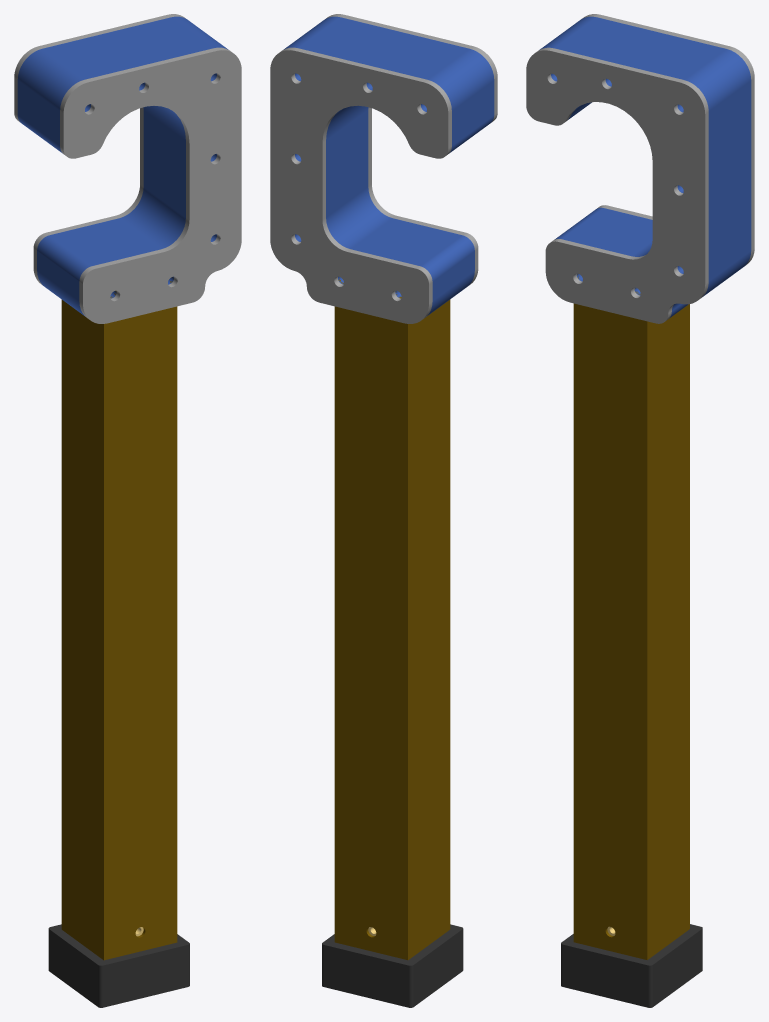
3 renders of one model, left to right at view 1: azimuth 30°, elevation 25°; view 2: azimuth 150°, elevation 25°; view 3: azimuth 330°, elevation 25°, orthographic.
Parts seen in each view (by area): view 1: Inner, Hook (×2), HookBody, 2X2 Stage Internal End Block; view 2: Inner, Hook (×2), HookBody, 2X2 Stage Internal End Block; view 3: Inner, Hook (×2), HookBody, 2X2 Stage Internal End Block.
Boxes of the visible parts, x1,y1,x2,y2 form: Inner: [61, 277, 177, 960]; Hook (×2): [14, 14, 241, 323]; HookBody: [17, 16, 228, 315]; 2X2 Stage Internal End Block: [48, 924, 189, 1007]; Inner: [334, 278, 450, 960]; Hook (×2): [270, 14, 497, 323]; HookBody: [283, 16, 494, 317]; 2X2 Stage Internal End Block: [322, 924, 463, 1007]; Inner: [573, 274, 689, 959]; Hook (×2): [526, 14, 754, 323]; HookBody: [539, 16, 751, 318]; 2X2 Stage Internal End Block: [561, 924, 702, 1007].
Size of the model in its own units: 0.0926 by 0.4605 by 0.0474.
